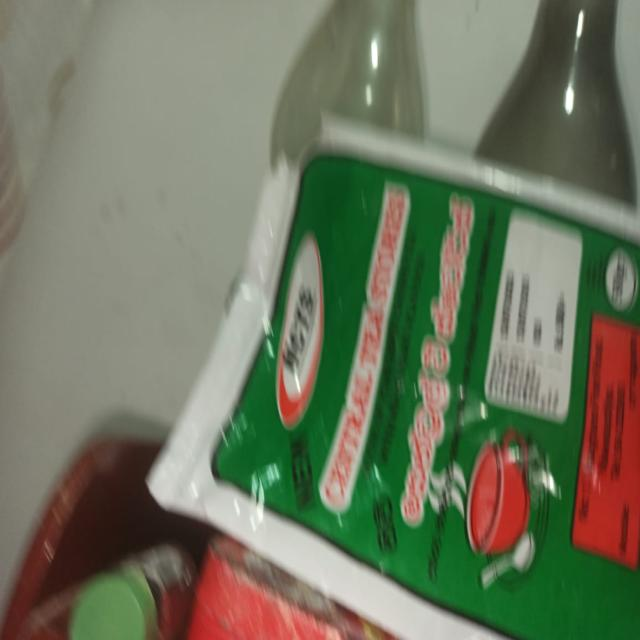Central Tea: (127, 73, 639, 640)
